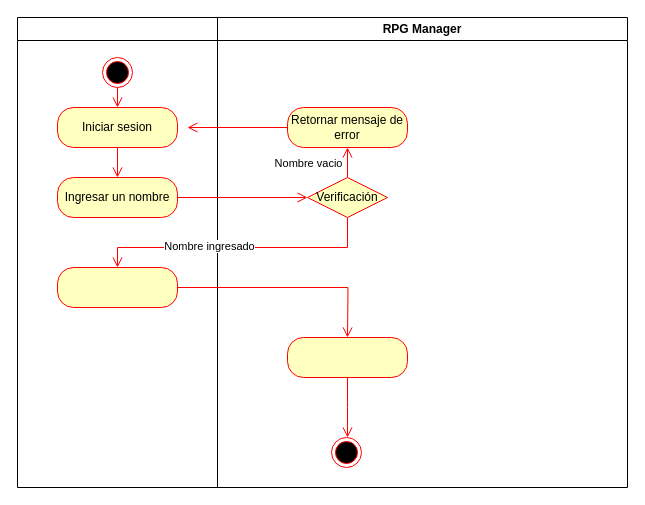
This 645x505 diagram has some shape labels left out. Here are the shapes that lost their labels. From the top down, the box of each, then its label:
(16, 16, 218, 488): Jugador
(56, 266, 178, 308): Seleccion de clase
(286, 336, 408, 378): Crear inventario de personaje
